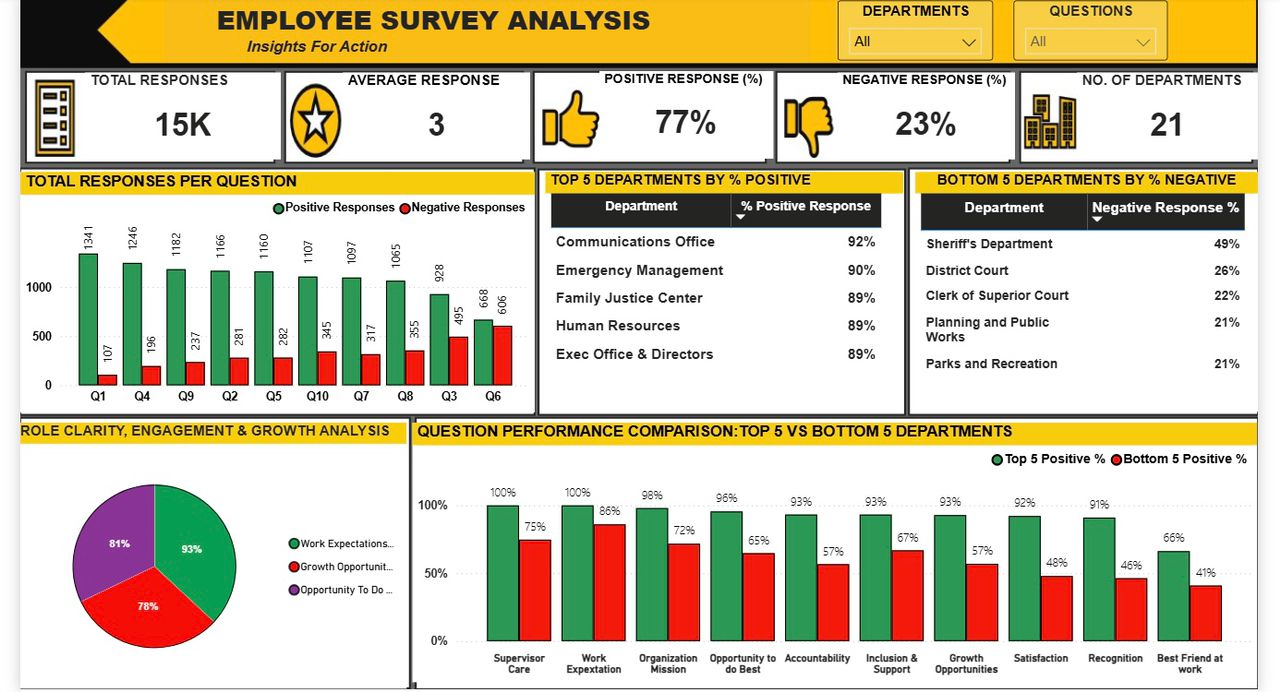

The page's visual inventory and layout, read from the dashboard file:
{"tool":"powerbi","page":{"name":"Page 1","canvas":[1280,720],"ordinal":0},"visuals":[{"type":"cardVisual","title":"TOTAL RESPONSES","fields":{"Data":["MEASURE TABLE.Total Responses"]},"box":[66.7,78.3,201.7,90],"z":0},{"type":"cardVisual","title":"AVERAGE RESPONSE","fields":{"Data":["MEASURE TABLE.Average Response"]},"box":[333.3,78.3,193.3,90],"z":1000},{"type":"cardVisual","title":"POSITIVE RESPONSE (%)","fields":{"Data":["MEASURE TABLE.Positive Response %"]},"box":[598.1,77.9,179.7,90.7],"z":2000},{"type":"cardVisual","title":"NEGATIVE RESPONSE (%)","fields":{"Data":["MEASURE TABLE.Negative Response %"]},"box":[845,78.3,183.3,90],"z":3000},{"type":"cardVisual","title":"NO. OF DEPARTMENTS","fields":{"Data":["MEASURE TABLE.Total Departments"]},"box":[1093.3,78.3,186.7,90],"z":4000},{"type":"textbox","box":[148.3,0,668.3,66.7],"z":5000},{"type":"clusteredColumnChart","title":"TOTAL RESPONSES PER QUESTION","fields":{"Y":["MEASURE TABLE.Positive Responses","MEASURE TABLE.Negative Responses"],"Category":["Facts Table- Employee Survey.Question Short"]},"box":[0,181.7,531.7,248.3],"z":6000},{"type":"tableEx","title":"TOP 5 DEPARTMENTS BY % POSITIVE ","fields":{"Values":["Facts Table- Employee Survey.Department","MEASURE TABLE.% Positive Response"]},"box":[543.3,181.7,370,248.3],"z":7000},{"type":"tableEx","title":"BOTTOM 5 DEPARTMENTS BY % NEGATIVE","fields":{"Values":["Facts Table- Employee Survey.Department","MEASURE TABLE.Negative Response %"]},"box":[925.7,181.3,354.7,248.1],"z":8000},{"type":"clusteredColumnChart","title":"QUESTION PERFORMANCE COMPARISON:TOP 5 VS BOTTOM 5 DEPARTMENTS","fields":{"Y":["MEASURE TABLE.Best 5 Positive %","MEASURE TABLE.Worst 5 Positive %"],"Category":["Facts Table- Employee Survey.Question Type"]},"box":[405.6,440.6,873.2,268.8],"z":9000},{"type":"slicer","title":"DEPARTMENTS","fields":{"Values":["Facts Table- Employee Survey.Department"]},"box":[844.6,4.8,160.7,62],"z":10000},{"type":"slicer","title":"QUESTIONS","fields":{"Values":["Facts Table- Employee Survey.Question"]},"box":[1027.5,4.8,159.1,62],"z":11000},{"type":"pieChart","title":"ROLE CLARITY, ENGAGEMENT & GROWTH ANALYSIS","fields":{"Y":["MEASURE TABLE.Work Expectations %","MEASURE TABLE.Growth Opportunities %","MEASURE TABLE.Opportunity To Do Best %"]},"box":[0,440.6,399.2,275.2],"z":12000}]}

Visuals, with their boxes in screenshot pixels (x1, y1, x2, y2):
"TOTAL RESPONSES" cardVisual: 76/67/274/156
"AVERAGE RESPONSE" cardVisual: 338/67/528/156
"POSITIVE RESPONSE (%)" cardVisual: 599/67/776/156
"NEGATIVE RESPONSE (%)" cardVisual: 842/67/1022/156
"NO. OF DEPARTMENTS" cardVisual: 1086/67/1270/156
textbox: 156/0/814/56
"TOTAL RESPONSES PER QUESTION" clusteredColumnChart: 10/169/533/413
"TOP 5 DEPARTMENTS BY % POSITIVE " tableEx: 545/169/909/413
"BOTTOM 5 DEPARTMENTS BY % NEGATIVE" tableEx: 921/168/1271/413
"QUESTION PERFORMANCE COMPARISON:TOP 5 VS BOTTOM 5 DEPARTMENTS" clusteredColumnChart: 409/424/1269/688
"DEPARTMENTS" slicer: 842/0/1000/56
"QUESTIONS" slicer: 1022/0/1178/56
"ROLE CLARITY, ENGAGEMENT & GROWTH ANALYSIS" pieChart: 10/424/403/691
